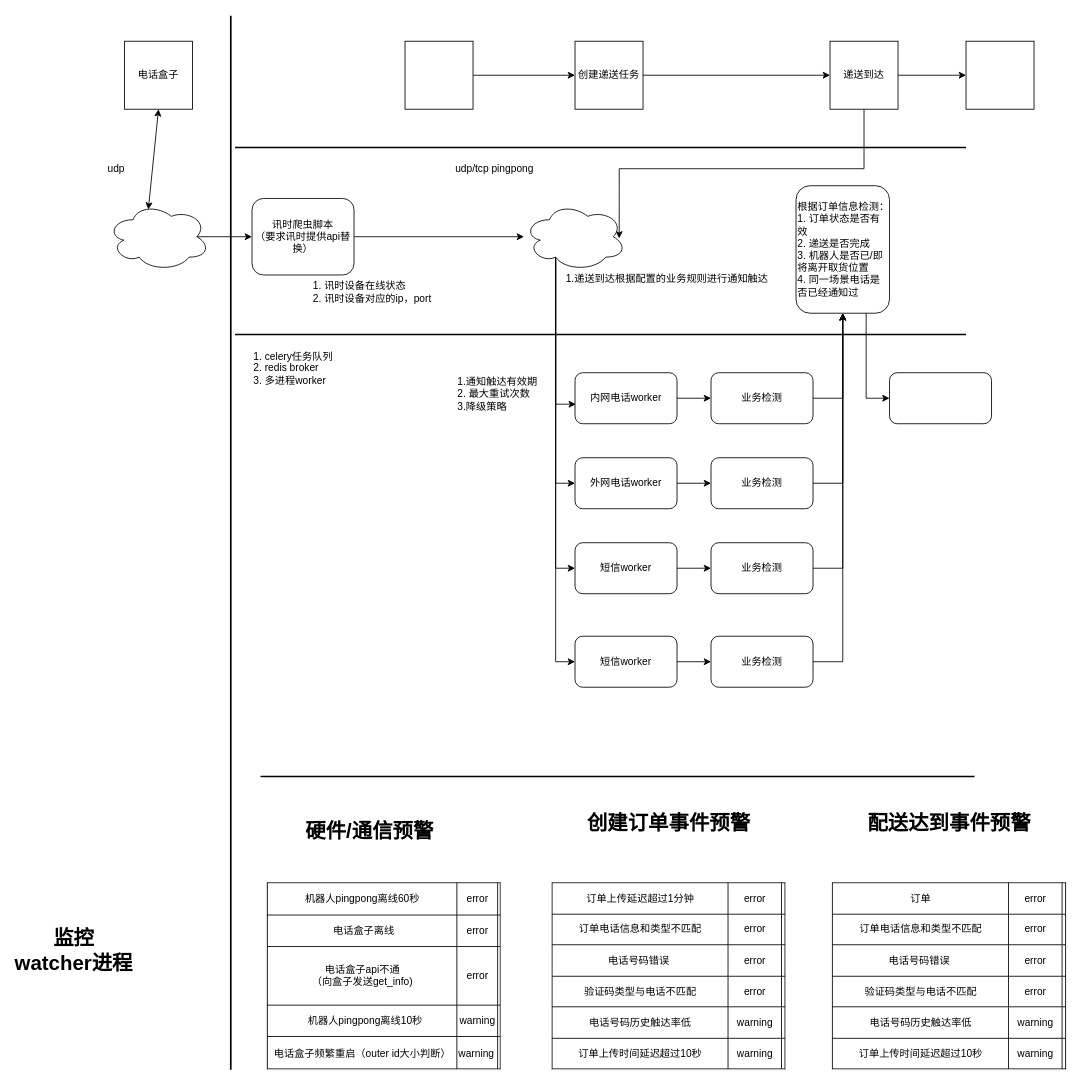
The diagram is 1081 pixels wide and 1085 high, and some of its shapes have lost their labels. The centre of each missing label's shape, as x and y in pixels:
cloud: the point at 574,236
已取货: the point at 999,74
拨打电话 （响应是否有: the point at 940,398
机器人: the point at 438,74
讯时云: the point at 158,236
